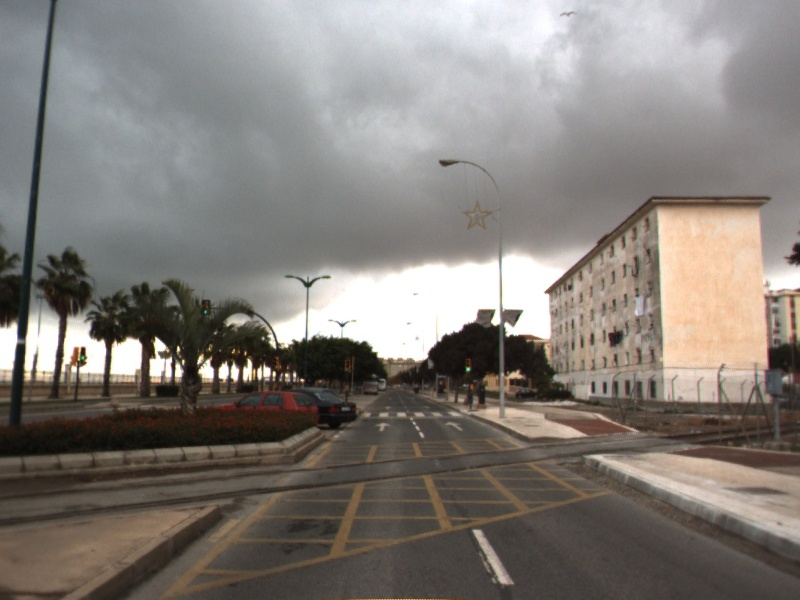STRAIGHT: (443, 419, 466, 432), (373, 420, 393, 433)
